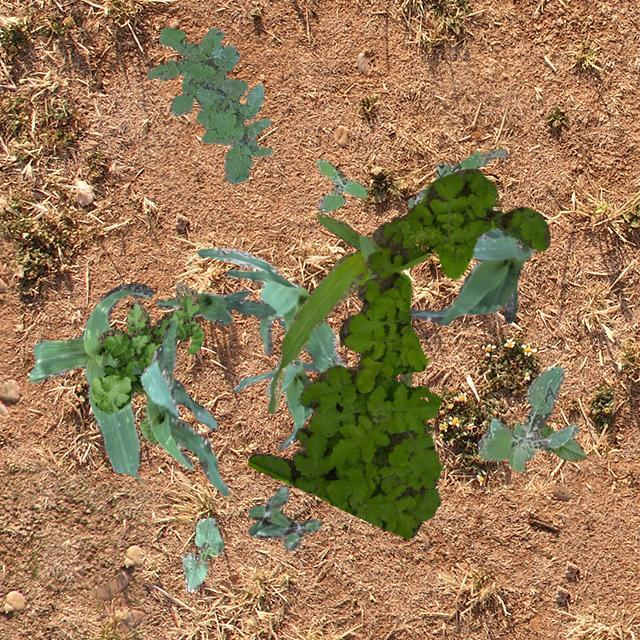crop: (266, 182, 430, 412), (27, 282, 216, 480), (197, 248, 346, 372), (140, 318, 228, 494), (408, 226, 534, 324), (234, 356, 312, 449), (154, 288, 274, 324), (180, 516, 222, 592), (538, 422, 586, 460)
weed: (246, 168, 550, 538), (146, 26, 272, 182), (91, 282, 202, 442), (477, 366, 578, 470), (408, 148, 507, 208), (246, 486, 322, 550), (316, 158, 366, 212)
